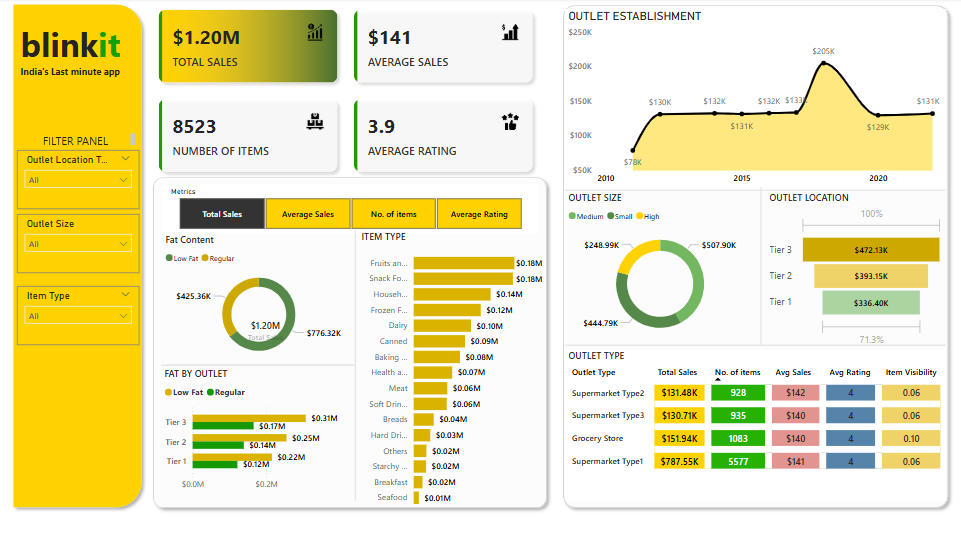

The dashboard page shown, as its layout file describes it:
{"tool":"powerbi","page":{"name":"Page 1","canvas":[1400,800],"ordinal":0},"visuals":[{"type":"shape","box":[10,0,205,750],"z":0},{"type":"textbox","box":[24,28.8,164.8,91.2],"z":1000},{"type":"textbox","box":[24,92.8,164.8,27.2],"z":2000},{"type":"cardVisual","fields":{"Data":["BlinkIT Grocery Data.Total Sales","BlinkIT Grocery Data.Average Sales","BlinkIT Grocery Data.No. of items","BlinkIT Grocery Data.Average Rating"]},"box":[214.4,0,579.2,270.4],"z":3000},{"type":"shape","box":[214.4,251.2,590.4,499.2],"z":4000},{"type":"donutChart","title":"Fat Content ","fields":{"Y":["BlinkIT Grocery Data.Total Sales"],"Category":["BlinkIT Grocery Data.Item Fat Content"]},"box":[235.2,342.4,281.6,192],"z":5000},{"type":"slicer","fields":{"Values":["Metrics.Metrics"]},"box":[235.2,270.4,547.2,72],"z":6000},{"type":"cardVisual","fields":{"Data":["BlinkIT Grocery Data.Total Sales"]},"box":[328,448,115.2,72],"z":7000},{"type":"clusteredBarChart","title":"FAT BY OUTLET","fields":{"Y":["BlinkIT Grocery Data.Total Sales"],"Category":["BlinkIT Grocery Data.Outlet Location Type"],"Series":["BlinkIT Grocery Data.Item Fat Content"]},"box":[233.6,536,280,188.8],"z":8000},{"type":"shape","box":[233.6,467.2,283.2,134.4],"z":9000},{"type":"shape","box":[510.4,337.6,12.8,393.6],"z":10000},{"type":"clusteredBarChart","title":"ITEM TYPE","fields":{"Y":["BlinkIT Grocery Data.Total Sales"],"Category":["BlinkIT Grocery Data.Item Type"]},"box":[520,337.6,273.6,412.8],"z":11000},{"type":"shape","box":[243.2,476.8,270.4,113.6],"z":12000},{"type":"shape","box":[809.6,1.6,578,748.8],"z":13000},{"type":"lineChart","title":"OUTLET ESTABLISHMENT ","fields":{"Y":["BlinkIT Grocery Data.Total Sales"],"Category":["BlinkIT Grocery Data.Outlet Establishment Year"]},"box":[822.4,16,553.6,264],"z":14000},{"type":"donutChart","title":"OUTLET SIZE","fields":{"Y":["BlinkIT Grocery Data.Total Sales"],"Category":["BlinkIT Grocery Data.Outlet Size"]},"box":[822.4,280,276.8,225.6],"z":15000},{"type":"shape","box":[1099.2,275.2,14.4,230.4],"z":16000},{"type":"funnel","title":"OUTLET LOCATION","fields":{"Y":["BlinkIT Grocery Data.Total Sales"],"Category":["BlinkIT Grocery Data.Outlet Location Type"]},"box":[1113.6,280,262.4,230.4],"z":17000},{"type":"shape","box":[822.4,251.2,553.6,56],"z":18000},{"type":"shape","box":[822.4,476.8,553.6,56],"z":19000},{"type":"pivotTable","title":"OUTLET TYPE","fields":{"Rows":["BlinkIT Grocery Data.Outlet Type"],"Values":["BlinkIT Grocery Data.Total Sales","BlinkIT Grocery Data.No. of items","BlinkIT Grocery Data.Average Sales","BlinkIT Grocery Data.Average Rating","Avg(BlinkIT Grocery Data.Item Visibility)"]},"box":[822.4,510.4,553.6,220.8],"z":20000},{"type":"slicer","fields":{"Values":["BlinkIT Grocery Data.Outlet Location Type"]},"box":[24,220.8,177.6,86.4],"z":21000},{"type":"slicer","fields":{"Values":["BlinkIT Grocery Data.Outlet Size"]},"box":[24,313.6,177.6,86.4],"z":22000},{"type":"slicer","fields":{"Values":["BlinkIT Grocery Data.Item Type"]},"box":[24,419.2,177.6,86.4],"z":23000},{"type":"textbox","box":[24,192,177.6,28.8],"z":24000}]}

Visuals, with their boxes in screenshot pixels (x1, y1, x2, y2), scaled from the page's 1400x800 canvas onto the 961x545 screenshot:
shape: 7,0,148,511
textbox: 16,20,130,82
textbox: 16,63,130,82
cardVisual - BlinkIT Grocery Data.Total Sales x BlinkIT Grocery Data.Average Sales: 147,0,545,184
shape: 147,171,552,511
"Fat Content " donutChart: 161,233,355,364
slicer - Metrics.Metrics: 161,184,537,233
cardVisual - BlinkIT Grocery Data.Total Sales: 225,305,304,354
"FAT BY OUTLET" clusteredBarChart: 160,365,353,494
shape: 160,318,355,410
shape: 350,230,359,498
"ITEM TYPE" clusteredBarChart: 357,230,545,511
shape: 167,325,353,402
shape: 556,1,952,511
"OUTLET ESTABLISHMENT " lineChart: 565,11,945,191
"OUTLET SIZE" donutChart: 565,191,755,344
shape: 755,187,764,344
"OUTLET LOCATION" funnel: 764,191,945,348
shape: 565,171,945,209
shape: 565,325,945,363
"OUTLET TYPE" pivotTable: 565,348,945,498
slicer - BlinkIT Grocery Data.Outlet Location Type: 16,150,138,209
slicer - BlinkIT Grocery Data.Outlet Size: 16,214,138,272
slicer - BlinkIT Grocery Data.Item Type: 16,286,138,344
textbox: 16,131,138,150
